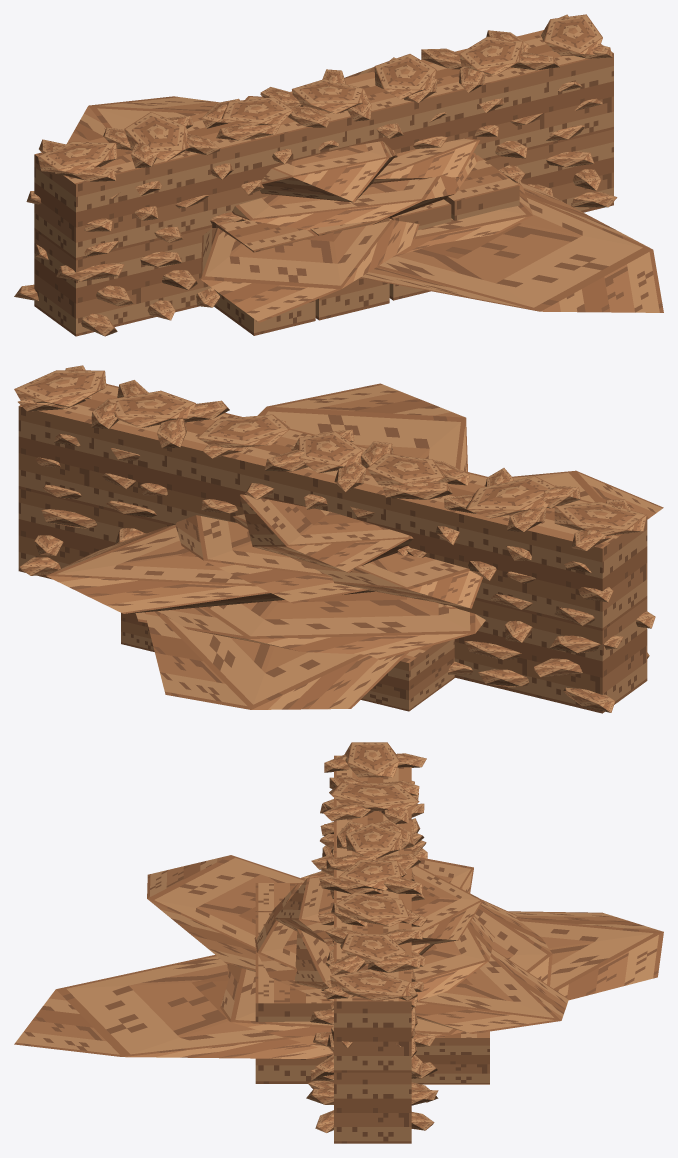
The model's file is stones-sandstone.glb.
3 views of the same model, one above another, from view 1: azimuth 30°, elevation 25°; view 2: azimuth 150°, elevation 25°; view 3: azimuth 270°, elevation 25° (orthographic). The views are drawn at different scales.
Visible parts, largest first — view 1: retaining-wall@sandstone, outcrop@sandstone, matacao@sandstone, stone-steps@sandstone; view 2: retaining-wall@sandstone, outcrop@sandstone, matacao@sandstone, stone-steps@sandstone; view 3: outcrop@sandstone, retaining-wall@sandstone, matacao@sandstone, stone-steps@sandstone.
Part boxes in pixels (x1,y1,x2,y2): retaining-wall@sandstone: (14,14,617,336); outcrop@sandstone: (67,67,663,322); matacao@sandstone: (232,96,532,257); stone-steps@sandstone: (212,155,519,335); retaining-wall@sandstone: (14,365,655,713); outcrop@sandstone: (46,383,663,709); matacao@sandstone: (120,494,485,659); stone-steps@sandstone: (121,613,454,711); outcrop@sandstone: (14,855,663,1058); retaining-wall@sandstone: (301,742,438,1143); matacao@sandstone: (220,865,552,1051); stone-steps@sandstone: (255,883,489,1084).
Size of the model in its own units: 6.28 by 1.79 by 6.71.
1 material, 1 textured.
